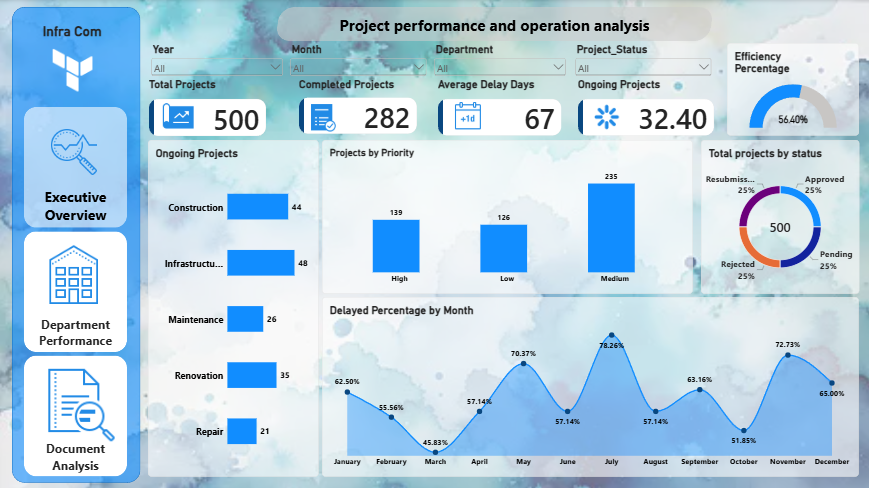

What the dashboard file says about the page in this screenshot:
{"tool":"powerbi","page":{"name":"Executive Overview","canvas":[1920,1080],"ordinal":0},"visuals":[{"type":"shape","box":[30,17.1,282.9,1048.6],"z":0},{"type":"bookmarkNavigator","box":[57.5,237.5,227.5,815],"z":12000},{"type":"image","title":"Bookmark keys","box":[105,255,122.5,162.5],"z":16000},{"type":"image","title":"Bookmark keys","box":[90,522.5,152.5,177.5],"z":17000},{"type":"image","title":"Bookmark Keys","box":[77.5,787.5,180,195],"z":18000},{"type":"cardVisual","title":"Completed Projects","fields":{"Data":["Measures Table.Completed Projects"]},"box":[662.5,175,250,122.5],"z":19000},{"type":"cardVisual","title":"Average Delay Days","fields":{"Data":["Measures Table.Total Delay Days"]},"box":[970,175,272.5,127.5],"z":20000},{"type":"cardVisual","title":"Total Projects","fields":{"Data":["Measures Table.Total Projects"]},"box":[332,174,258,128],"z":21000},{"type":"cardVisual","title":"Ongoing Projects","fields":{"Data":["Measures Table.Workload Score"]},"box":[1277.5,175,300,127.5],"z":22000},{"type":"clusteredBarChart","title":"Ongoing Projects","fields":{"Category":["Updated_ProjectMaster_dataset.Project_Category"],"Y":["Measures Table.Workload Score"]},"box":[331.2,311.3,376,742.1],"z":23000},{"type":"gauge","title":"Efficiency Percentage","fields":{"Y":["Measures Table.Efficiency Percentage by Department"]},"box":[1606.2,97.1,291.4,204.2],"z":24000},{"type":"columnChart","title":"Projects by Priority","fields":{"Category":["Updated_ProjectMaster_dataset.Priority"],"Y":["CountNonNull(Updated_ProjectMaster_dataset.Priority)"]},"box":[714.7,311.3,816.8,338.7],"z":25000},{"type":"areaChart","fields":{"Category":["Updated_ProjectMaster_dataset.Actual_End_Date.Variation.Date Hierarchy.Month"],"Y":["Measures Table.Delayed Percentage"]},"box":[714.7,657.4,1182.9,396],"z":26000},{"type":"donutChart","title":"Total projects by status","fields":{"Category":["Cleaned_Monthly_Expenditure.Document_Status"],"Y":["Measures Table.Total Projects"]},"box":[1548.9,311.3,348.6,338.7],"z":27000},{"type":"slicer","fields":{"Values":["Updated_ProjectMaster_dataset.Actual_End_Date.Variation.Date Hierarchy.Year"]},"box":[332.5,96.2,300,77.5],"z":28000},{"type":"slicer","fields":{"Values":["Updated_ProjectMaster_dataset.Actual_End_Date.Variation.Date Hierarchy.Month"]},"box":[638.8,96.2,310,77.5],"z":29000},{"type":"slicer","fields":{"Values":["Updated_ProjectMaster_dataset.Department"]},"box":[957.5,96.2,300,77.5],"z":30000},{"type":"slicer","fields":{"Values":["Updated_ProjectMaster_dataset.Project_Status"]},"box":[1267.5,96.2,310,77.5],"z":31000},{"type":"image","box":[348,226,98,68],"z":32000},{"type":"image","box":[673.8,228.8,77.5,62.5],"z":33000},{"type":"image","box":[1000,227.5,70,62.5],"z":34000},{"type":"image","title":"Executive overview","box":[1297.5,222.5,87.5,75],"z":35000},{"type":"shape","box":[610,17.5,967.5,75],"z":36000},{"type":"image","title":"Infra Com","box":[57.5,52.5,212.5,155],"z":41001}]}

Visuals, with their boxes in screenshot pixels (x1, y1, x2, y2), scaled from the page's 1920x1080 canvas onto the 869x488 screenshot:
shape: <region>14, 8, 142, 482</region>
bookmarkNavigator: <region>26, 107, 129, 476</region>
"Bookmark keys" image: <region>48, 115, 103, 189</region>
"Bookmark keys" image: <region>41, 236, 110, 316</region>
"Bookmark Keys" image: <region>35, 356, 117, 444</region>
"Completed Projects" cardVisual: <region>300, 79, 413, 134</region>
"Average Delay Days" cardVisual: <region>439, 79, 562, 137</region>
"Total Projects" cardVisual: <region>150, 79, 267, 136</region>
"Ongoing Projects" cardVisual: <region>578, 79, 714, 137</region>
"Ongoing Projects" clusteredBarChart: <region>150, 141, 320, 476</region>
"Efficiency Percentage" gauge: <region>727, 44, 859, 136</region>
"Projects by Priority" columnChart: <region>323, 141, 693, 294</region>
areaChart - Updated_ProjectMaster_dataset.Actual_End_Date.Variation.Date Hierarchy.Month x Measures Table.Delayed Percentage: <region>323, 297, 859, 476</region>
"Total projects by status" donutChart: <region>701, 141, 859, 294</region>
slicer - Updated_ProjectMaster_dataset.Actual_End_Date.Variation.Date Hierarchy.Year: <region>150, 43, 286, 78</region>
slicer - Updated_ProjectMaster_dataset.Actual_End_Date.Variation.Date Hierarchy.Month: <region>289, 43, 429, 78</region>
slicer - Updated_ProjectMaster_dataset.Department: <region>433, 43, 569, 78</region>
slicer - Updated_ProjectMaster_dataset.Project_Status: <region>574, 43, 714, 78</region>
image: <region>158, 102, 202, 133</region>
image: <region>305, 103, 340, 132</region>
image: <region>453, 103, 484, 131</region>
"Executive overview" image: <region>587, 101, 627, 134</region>
shape: <region>276, 8, 714, 42</region>
"Infra Com" image: <region>26, 24, 122, 94</region>
